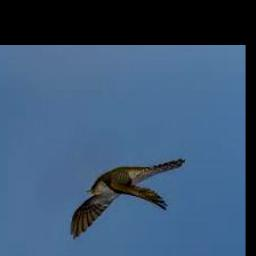Cuckoo: (71, 159, 186, 239)
